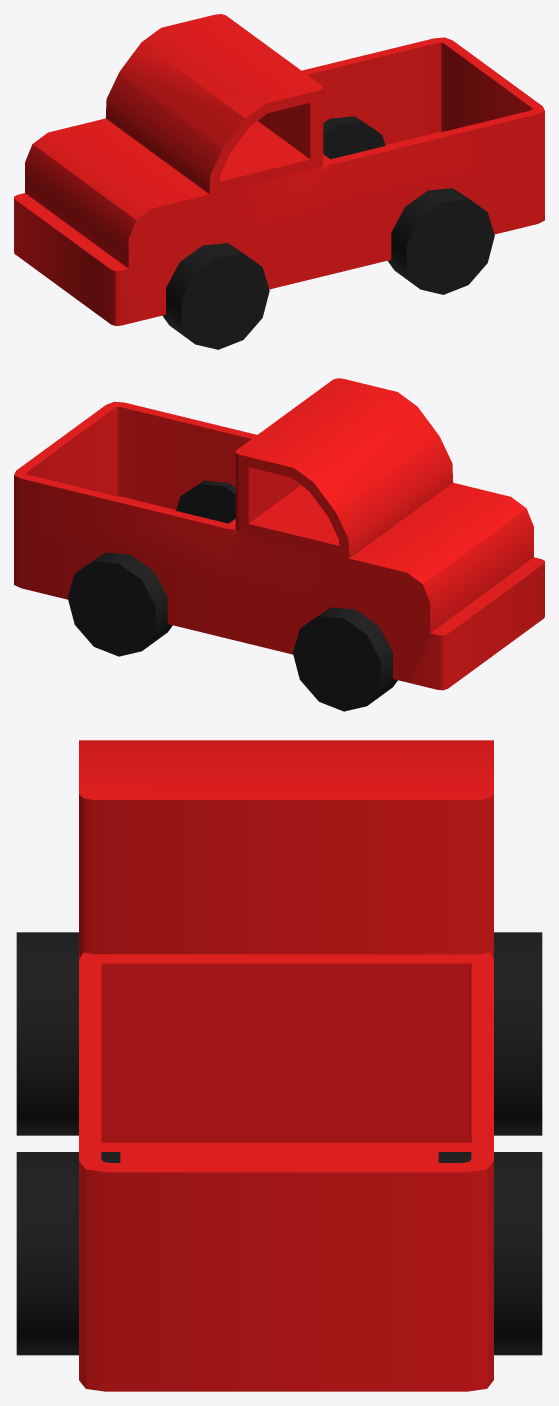
Rendered from mesh_voiture_jouet.fbx.
3 renders of one model, top to bottom at view 1: azimuth 30°, elevation 25°; view 2: azimuth 150°, elevation 25°; view 3: azimuth 270°, elevation 25°, orthographic. The views are drawn at different scales.
Parts seen in each view (by area): view 1: Voiture; view 2: Voiture; view 3: Voiture.
Boxes of the visible parts, x1=… form: Voiture: x1=14, y1=14, x2=544, y2=349; Voiture: x1=14, y1=378, x2=544, y2=711; Voiture: x1=16, y1=740, x2=542, y2=1391.
Bounding box in the file's own units: 14.52 × 7.01 × 7.6.
